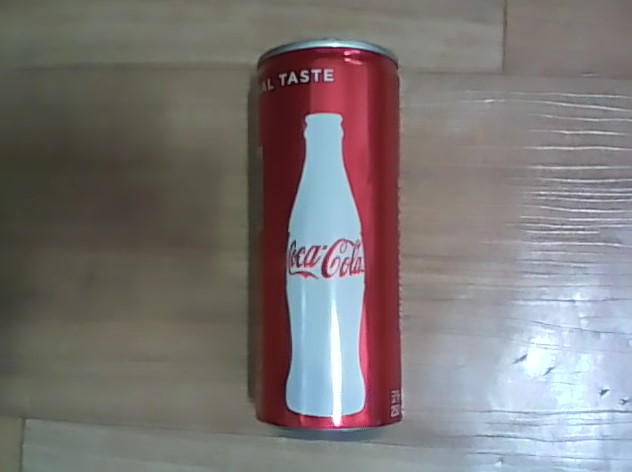Can: (240, 30, 408, 446)
